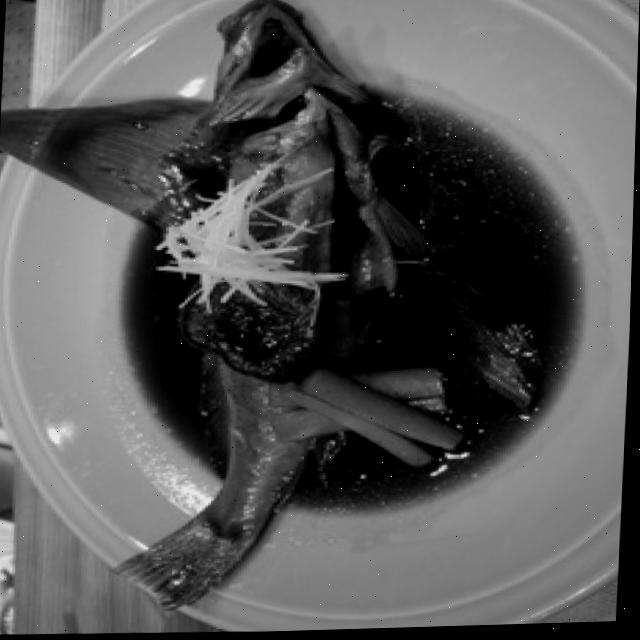熟制海鲜: (103, 0, 449, 637)
